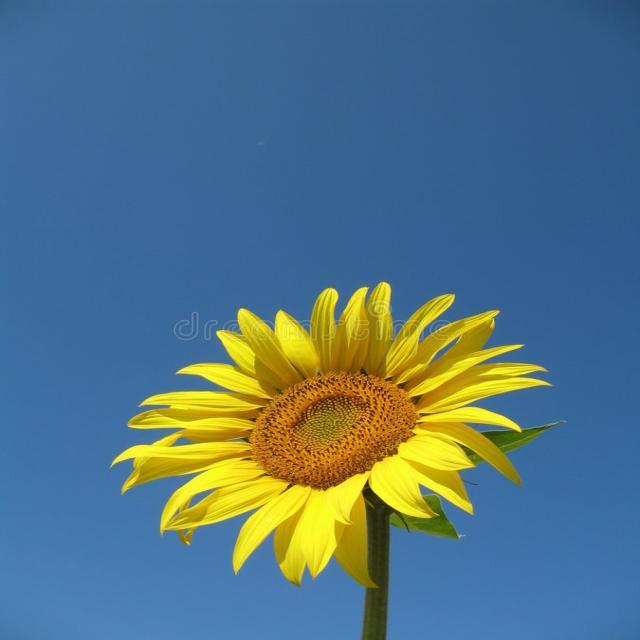sunflower: (114, 275, 573, 580)
